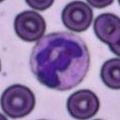N: (30, 31, 90, 92)
